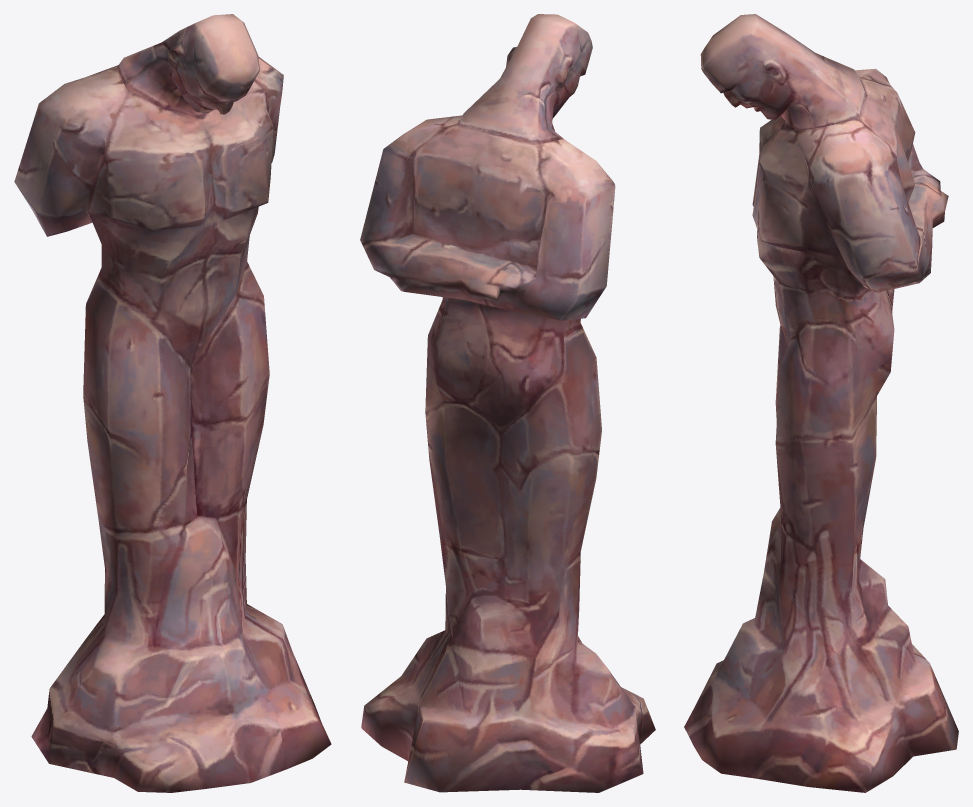
The model's file is kor_tomb_item_statue_03.glb.
3 renders of one model, left to right at view 1: azimuth 30°, elevation 25°; view 2: azimuth 150°, elevation 25°; view 3: azimuth 270°, elevation 25°, orthographic. The views are drawn at different scales.
Visible parts, largest first — view 1: kor_tomb_item_statue_03; view 2: kor_tomb_item_statue_03; view 3: kor_tomb_item_statue_03.
Boxes of the visible parts, x1=… form: kor_tomb_item_statue_03: x1=14, y1=14, x2=331, y2=792; kor_tomb_item_statue_03: x1=360, y1=14, x2=655, y2=792; kor_tomb_item_statue_03: x1=684, y1=14, x2=958, y2=792.
Size of the model in its own units: 0.5889 by 1.52 by 0.5368.
1 material, 1 textured.
